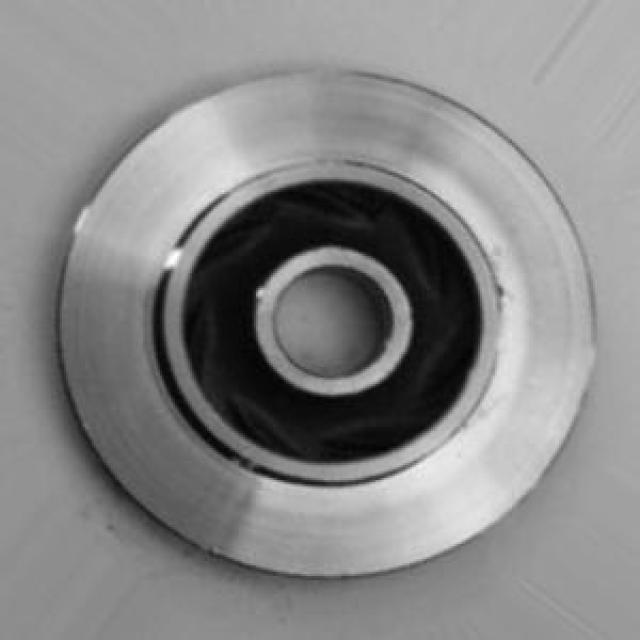Defect: (492, 282, 512, 304)
